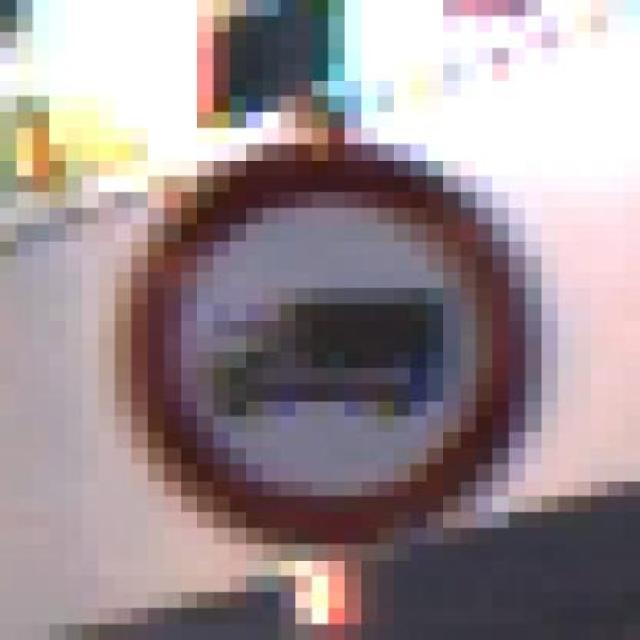Truck traffic is prohibited: (99, 96, 558, 544)
